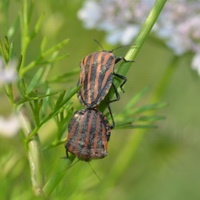insect: (78, 51, 133, 125), (65, 109, 109, 160)
